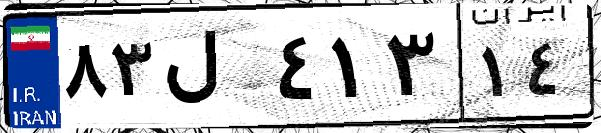1: (330, 28, 385, 110), (475, 38, 525, 113)
3: (385, 28, 445, 110), (110, 28, 158, 98)
4: (270, 28, 330, 110), (525, 38, 570, 115)
8: (57, 26, 110, 100)
ل: (158, 20, 270, 120)
